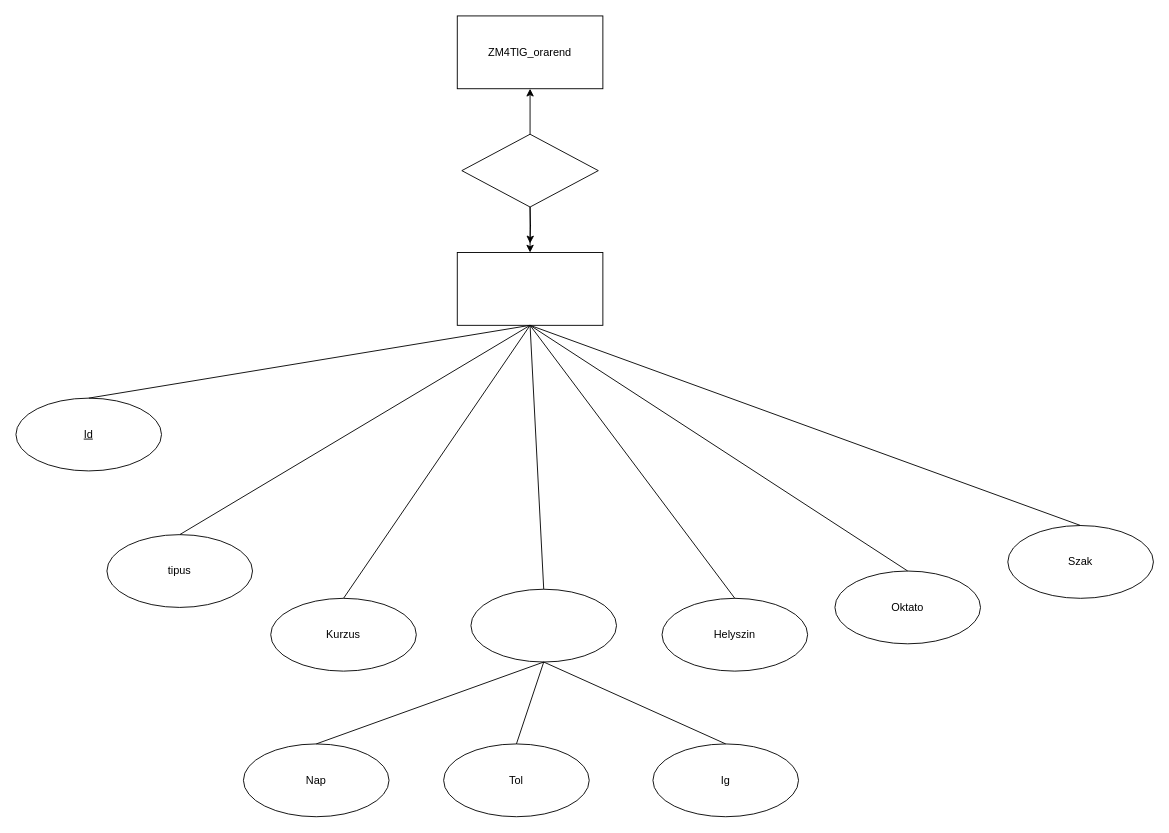
The diagram is 1169 pixels wide and 833 high, and some of its shapes have lost their labels. Here are the shapes that lost their labels. From the top down, the centre of each, then its label:
[529,170]: tartalmaz
[529,288]: Ora
[543,625]: Idopont
